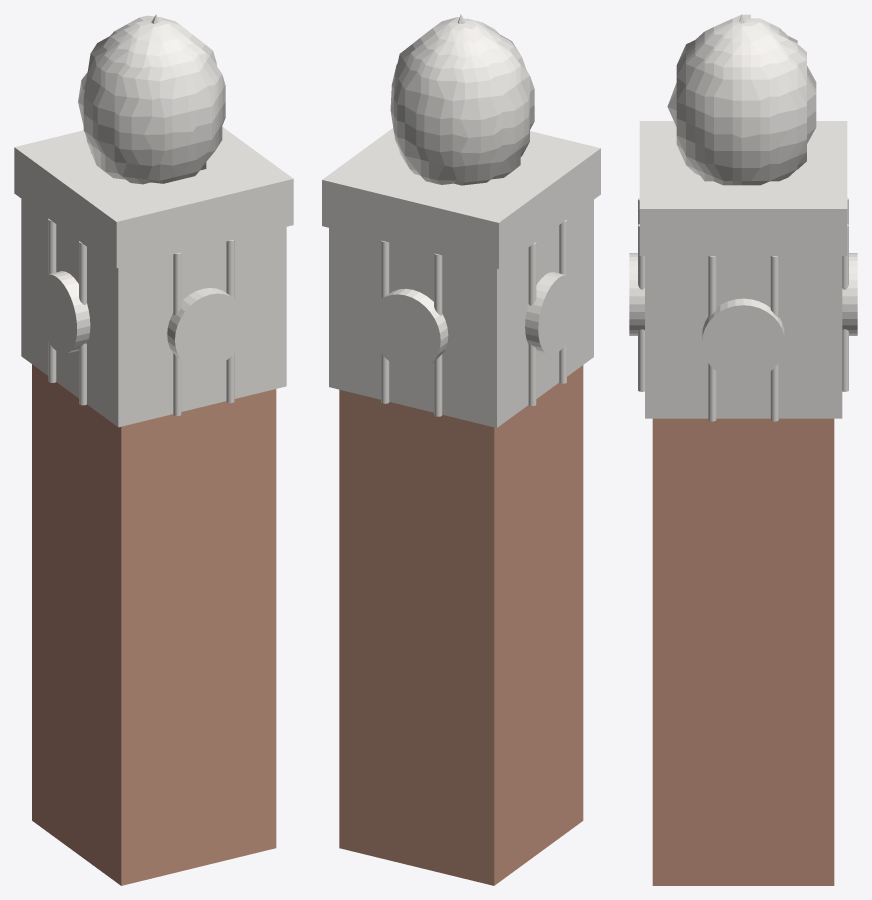
3 views of the same model, side by side, from view 1: azimuth 30°, elevation 25°; view 2: azimuth 150°, elevation 25°; view 3: azimuth 270°, elevation 25° (orthographic).
Visible parts, largest first — view 1: Fusto_Veneziano, Cella_Campanaria, Attico, object 16, Arcata_4, Arcata_3, Colonna_4_-0.6, Colonna_3_0.6, Colonna_4_0.6, Colonna_3_-0.6; view 2: Fusto_Veneziano, Cella_Campanaria, Attico, object 16, Arcata_2, Arcata_3, Colonna_3_-0.6, Colonna_2_0.6, Colonna_2_-0.6, Colonna_3_0.6; view 3: Fusto_Veneziano, Cella_Campanaria, Attico, object 16, Arcata_1, Arcata_4, Arcata_2, Colonna_1_0.6, Colonna_1_-0.6, Colonna_2_-0.6, Colonna_4_0.6.
Part boxes in pixels (box(x1,y1,x2,y2)): Fusto_Veneziano: box(32, 364, 276, 885); Cella_Campanaria: box(21, 199, 286, 427); Attico: box(14, 127, 293, 268); object 16: box(78, 14, 225, 184); Arcata_4: box(167, 288, 245, 369); Arcata_3: box(36, 271, 90, 353); Colonna_4_-0.6: box(173, 252, 181, 415); Colonna_3_0.6: box(79, 241, 86, 405); Colonna_4_0.6: box(226, 239, 234, 403); Colonna_3_-0.6: box(48, 218, 56, 382); Fusto_Veneziano: box(339, 365, 583, 885); Cella_Campanaria: box(329, 200, 593, 427); Attico: box(322, 128, 600, 268); object 16: box(390, 14, 534, 185); Arcata_2: box(370, 288, 448, 370); Arcata_3: box(525, 272, 578, 354); Colonna_3_-0.6: box(528, 242, 536, 405); Colonna_2_0.6: box(434, 253, 442, 416); Colonna_2_-0.6: box(381, 240, 389, 403); Colonna_3_0.6: box(559, 219, 566, 383); Fusto_Veneziano: box(652, 418, 834, 885); Cella_Campanaria: box(645, 256, 842, 418); Attico: box(639, 121, 847, 255); object 16: box(667, 14, 816, 185); Arcata_1: box(702, 298, 784, 380); Arcata_4: box(629, 253, 644, 335); Arcata_2: box(842, 253, 857, 335); Colonna_1_0.6: box(770, 256, 778, 421); Colonna_1_-0.6: box(708, 256, 716, 421); Colonna_2_-0.6: box(842, 224, 848, 391); Colonna_4_0.6: box(638, 224, 644, 391).
Bounding box in the file's own units: 4.4 × 17.72 × 4.4.
